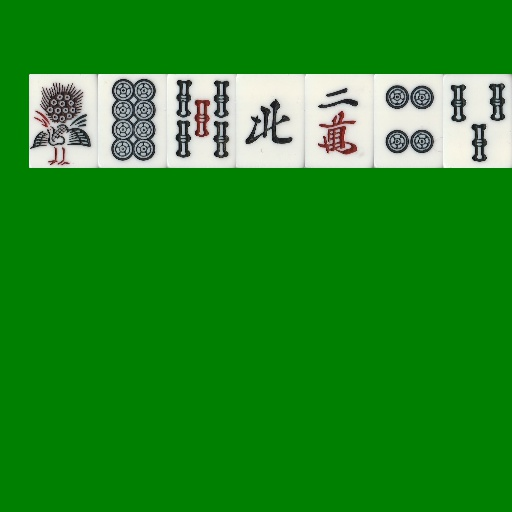1s: (29, 74, 98, 168)
2m: (305, 74, 374, 168)
3s: (443, 74, 512, 168)
4p: (374, 74, 443, 168)
5s: (167, 74, 236, 168)
8p: (98, 74, 167, 168)
north: (236, 74, 305, 168)
